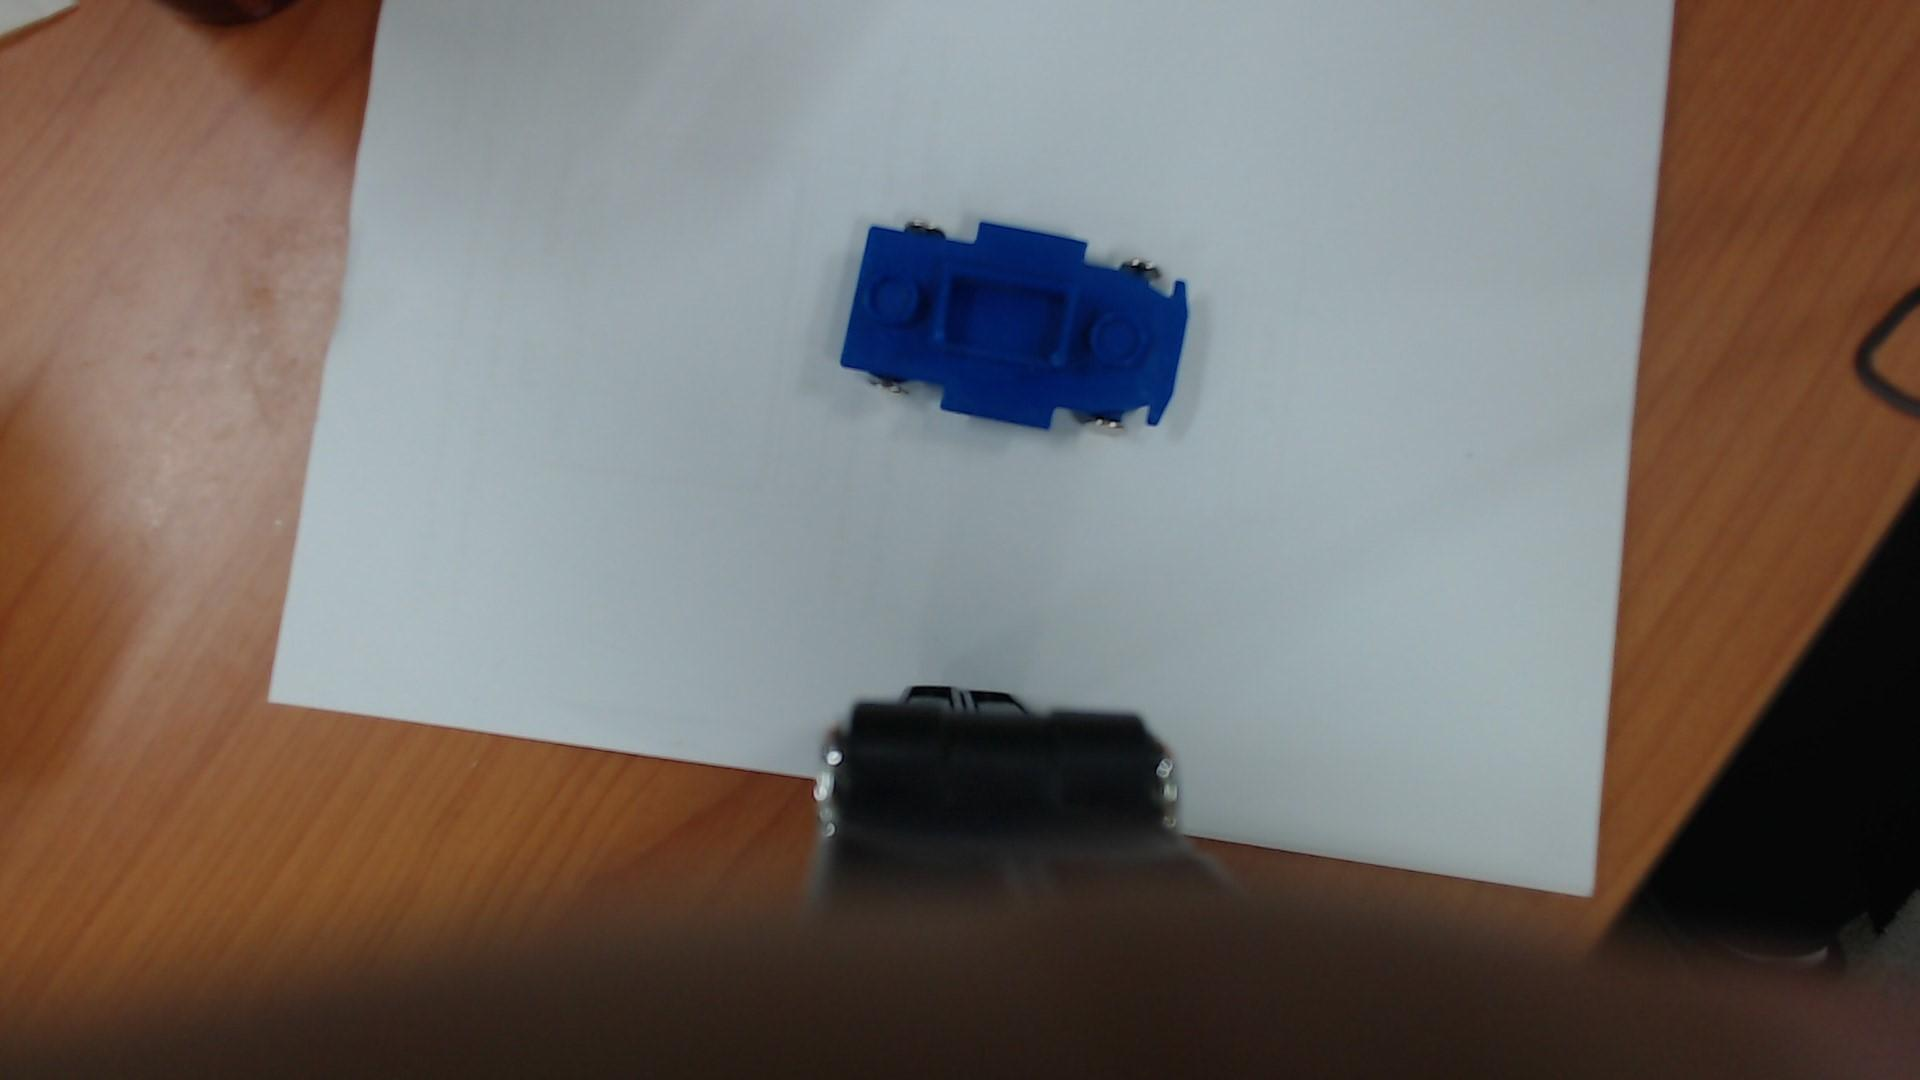lower_ng: (928, 264, 1090, 375)
